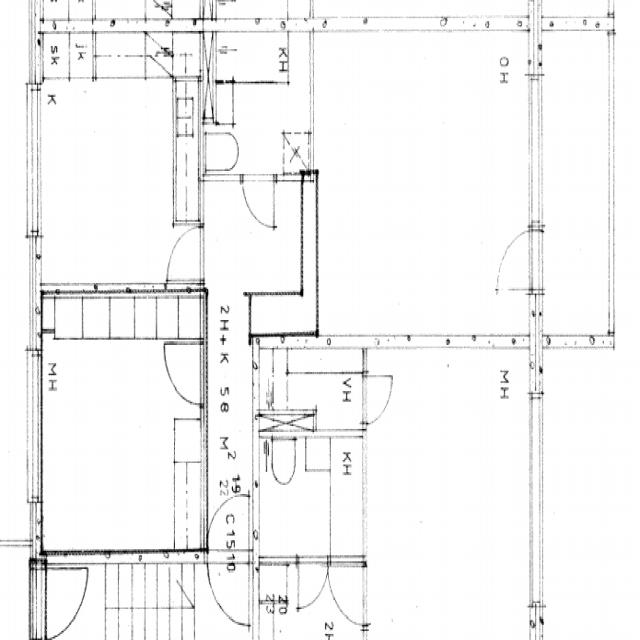door: (207, 484, 248, 564), (207, 550, 248, 630), (492, 230, 542, 290), (529, 230, 578, 290), (162, 343, 204, 405), (168, 228, 204, 280), (242, 175, 274, 232)
